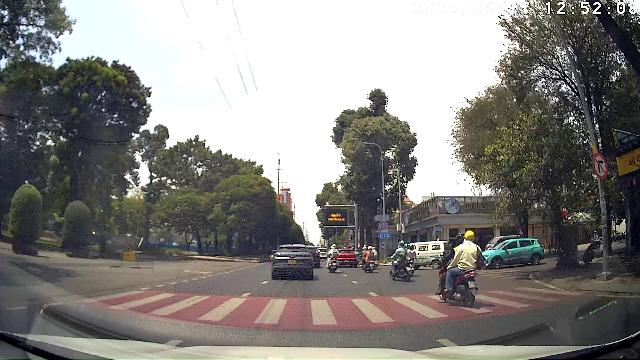123b-cam-re-phai: (592, 152, 608, 180)
